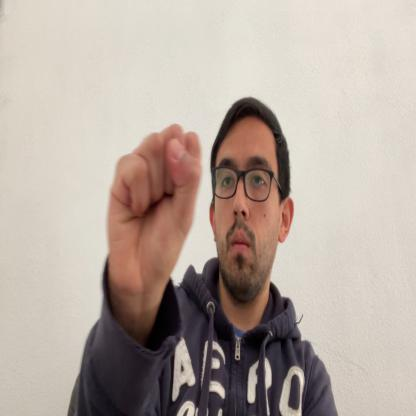S: (106, 125, 201, 279)
